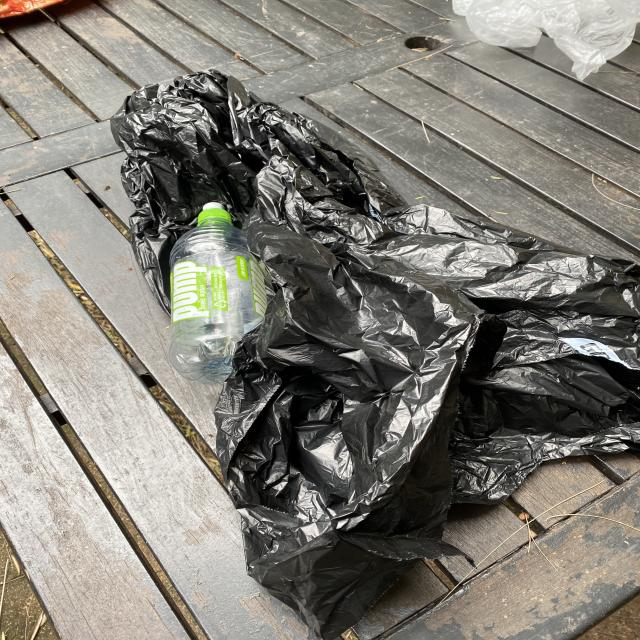bag: (111, 68, 640, 640), (453, 0, 640, 82)
bottle: (168, 202, 267, 384)
